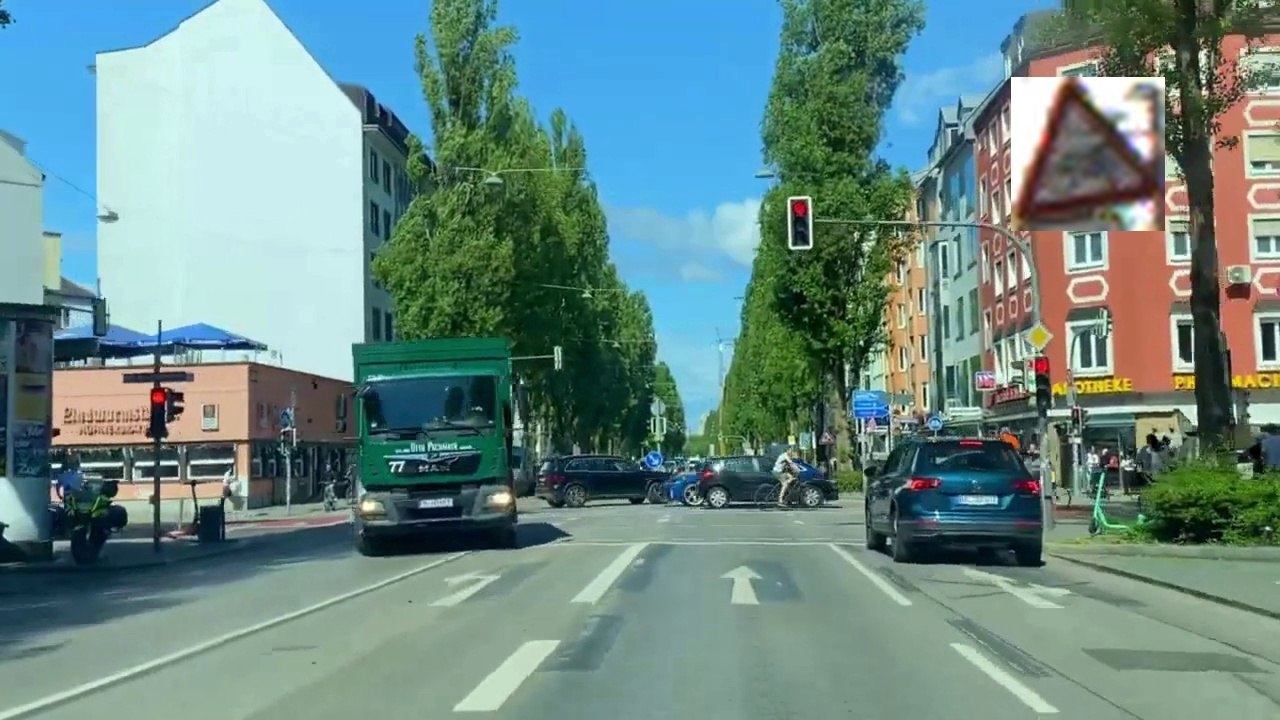Bicycles: (1011, 77, 1165, 231)
